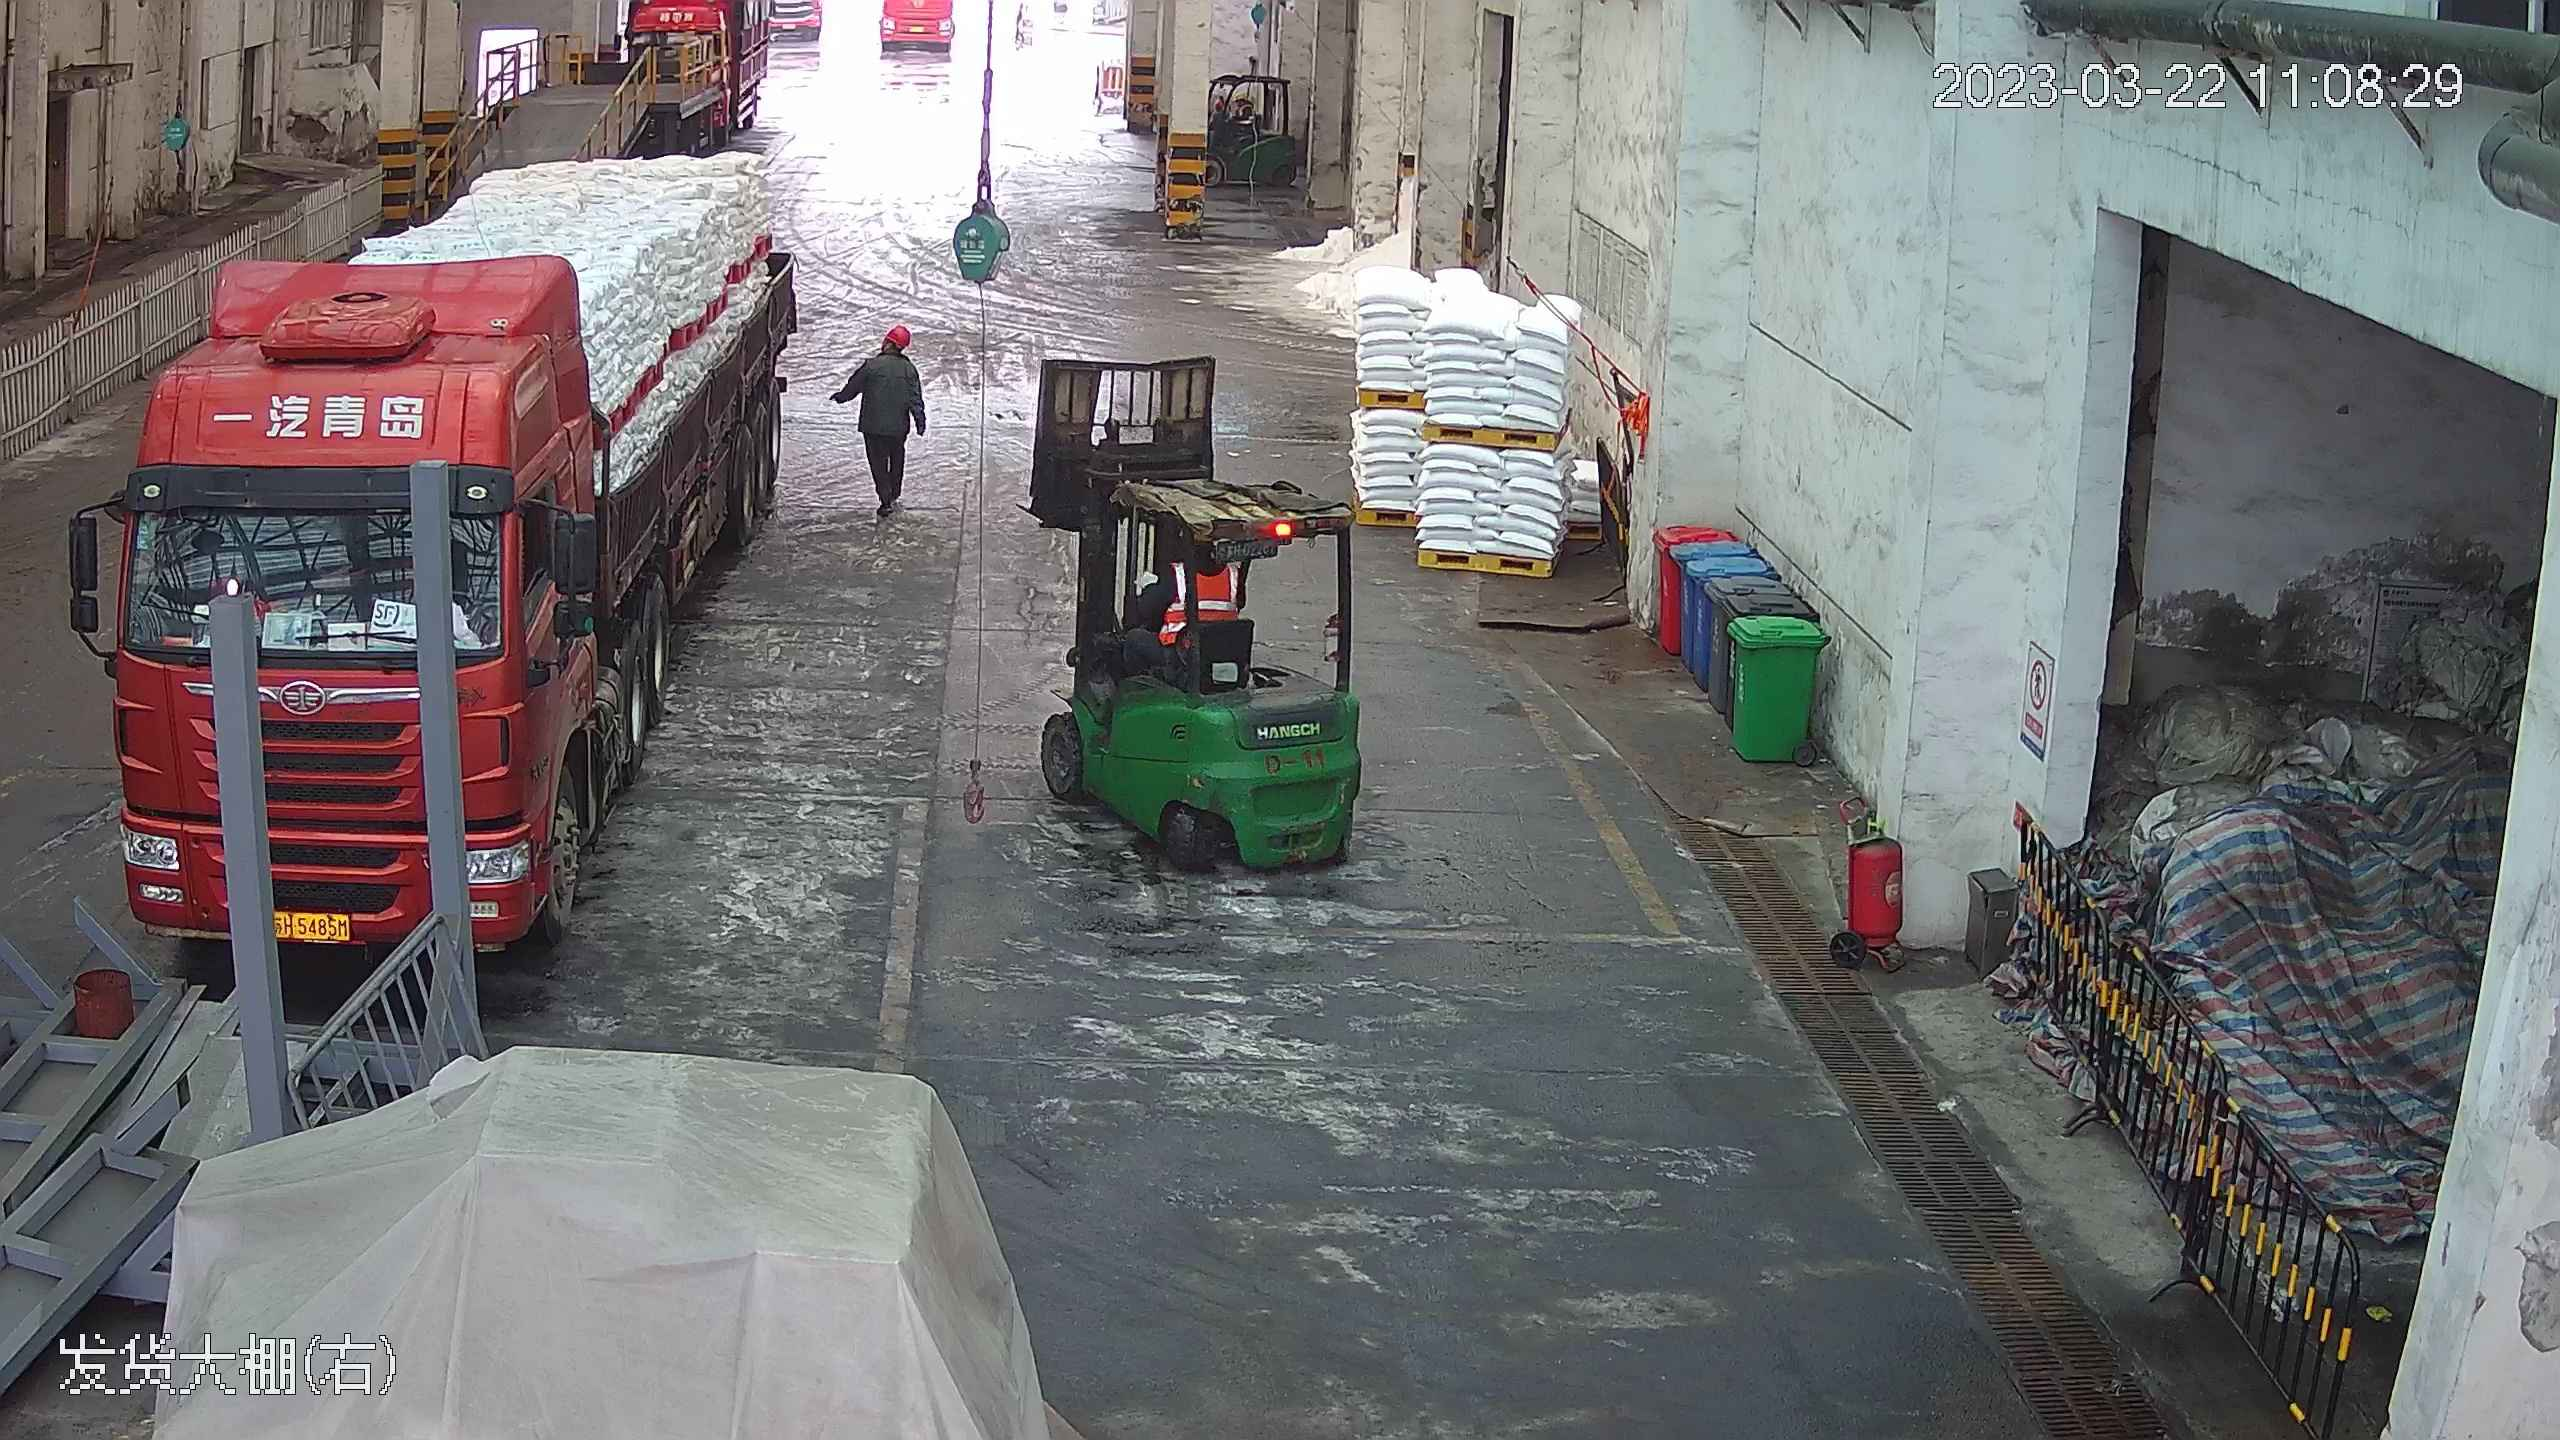head: (864, 321, 920, 380)
helmet: (881, 321, 912, 347)
people: (835, 316, 926, 521)
truck: (93, 131, 796, 973)
